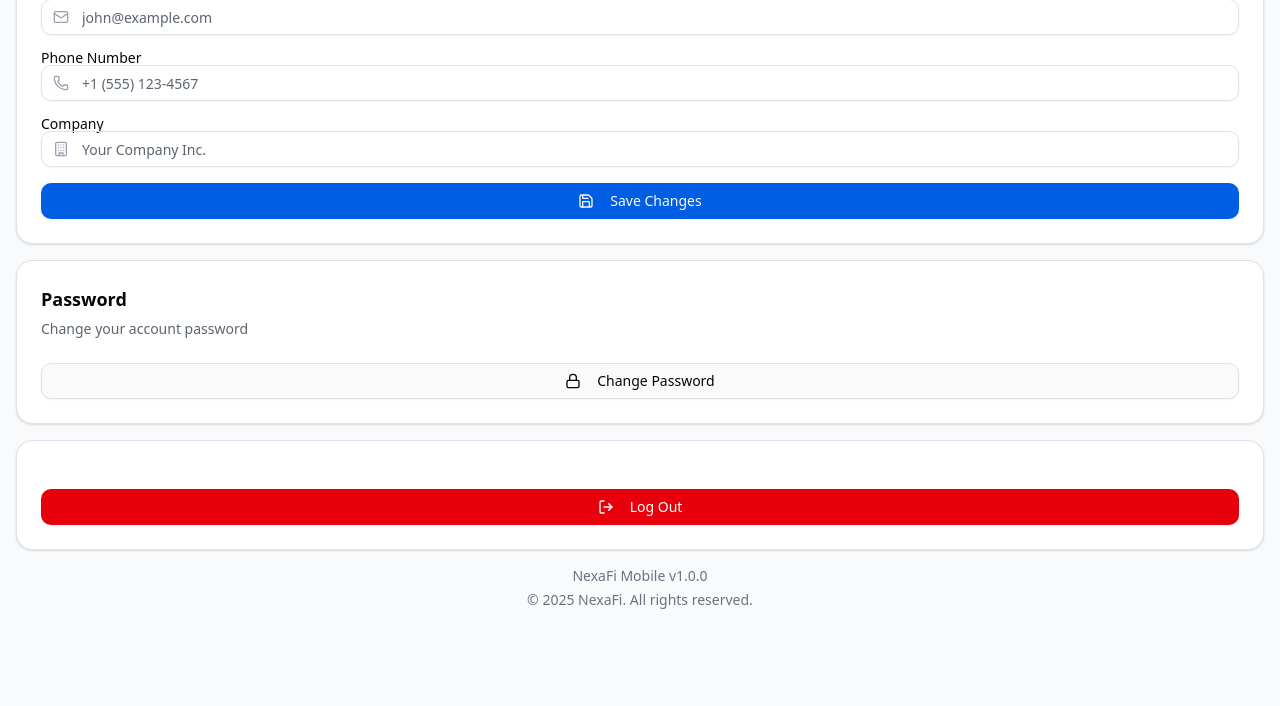
Scenario: MobileSettingsModule › cancels logout when Cancel is clicked
This screenshot has width=1280, height=706.
(page scrolled)
Click the button "Log Out": (640, 507) [41,489,1239,525]
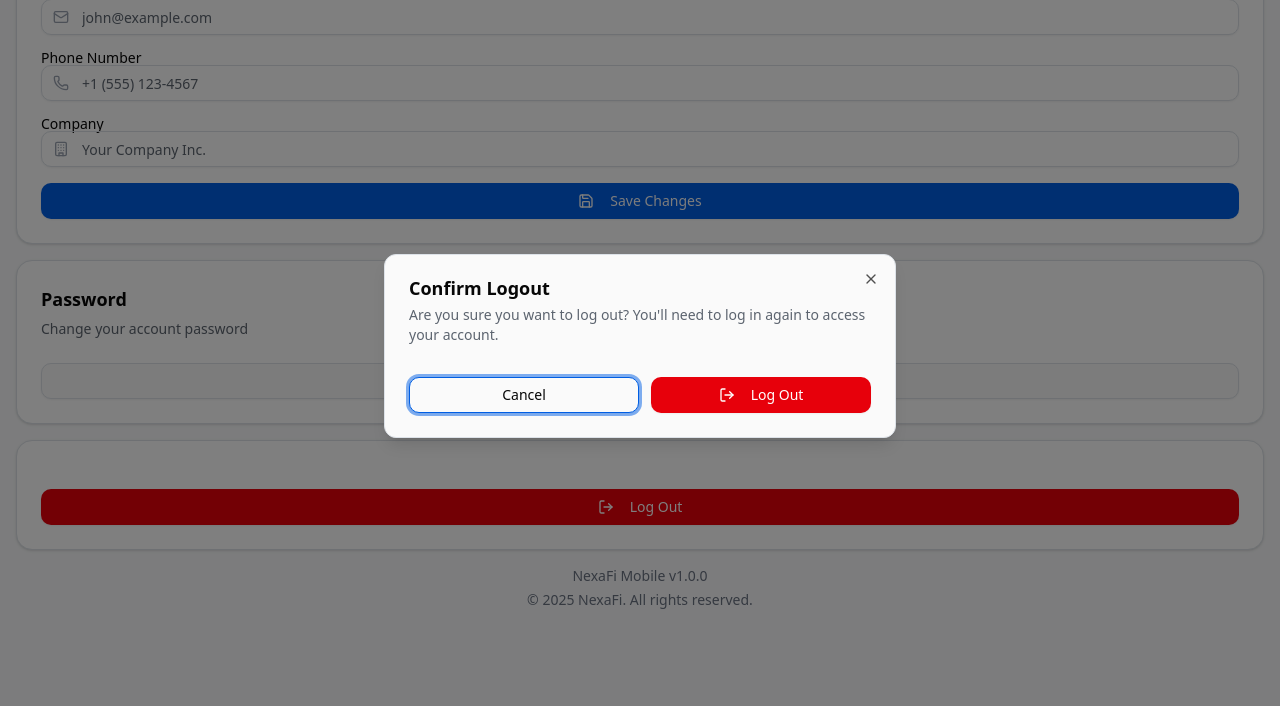
Expected: the heading "Confirm Logout" is shown, [409,276,550,300]
Click the button "Cancel": (524, 395) [409,377,639,413]
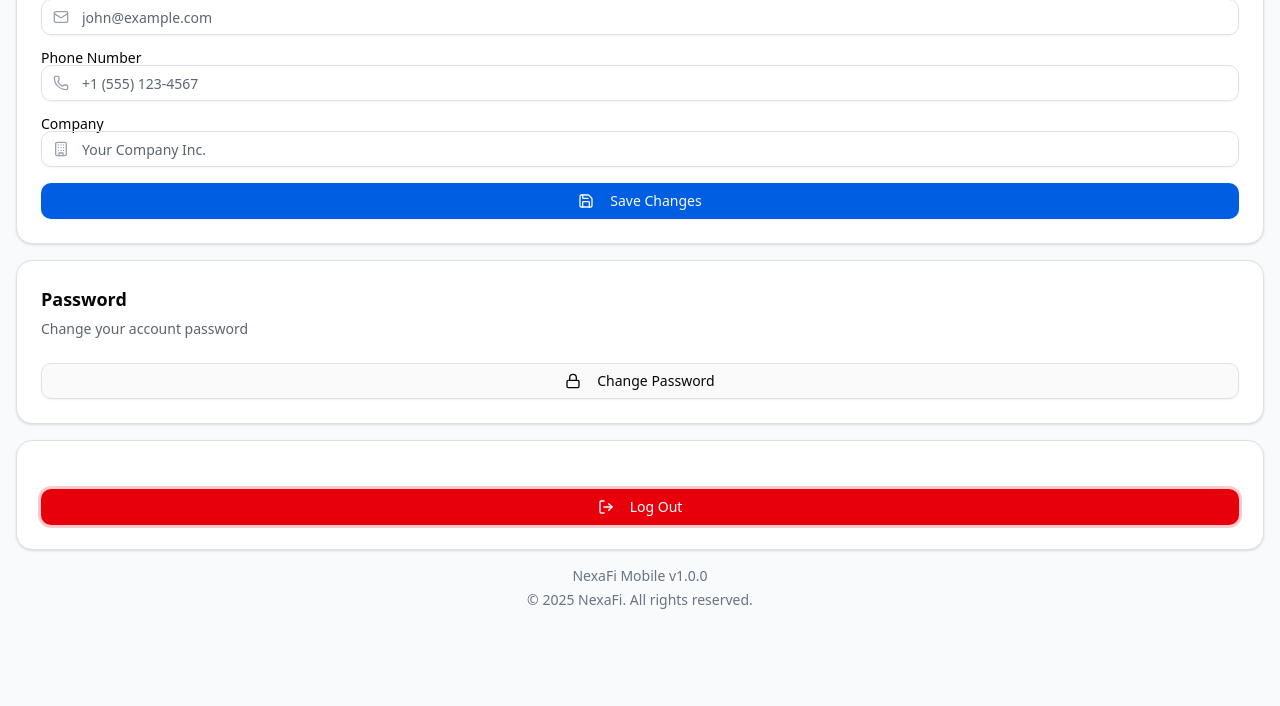
Expected: the heading "Confirm Logout" is gone
